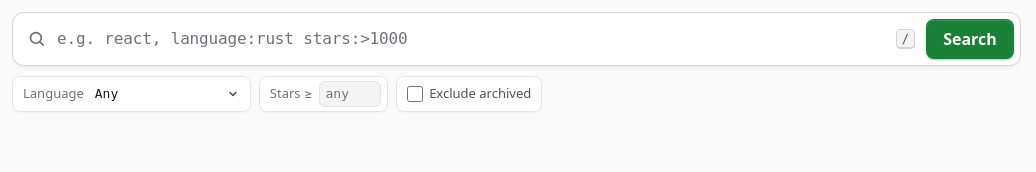
SearchFilters › shows the supported qualifiers typed into the search as filters
In the dropdown named "Search repositories": (516, 39) [12,12,1021,66], type "react language:typescript stars:>100 archived:false topic:cli"
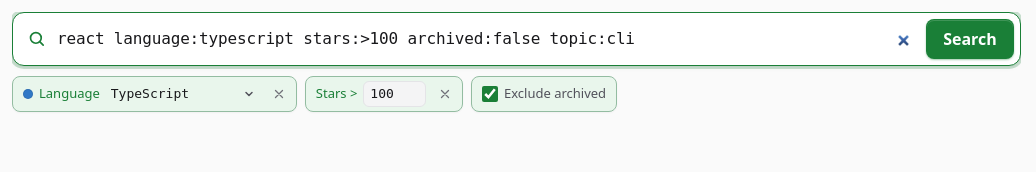
Expected: the dropdown labelled "Language" shows "TypeScript", [106,81,260,107]
Expected: the field named "Stars more than" holds "100", [363,81,426,107]
Expected: the checkbox labelled "Exclude archived" is checked, [482,86,498,102]
